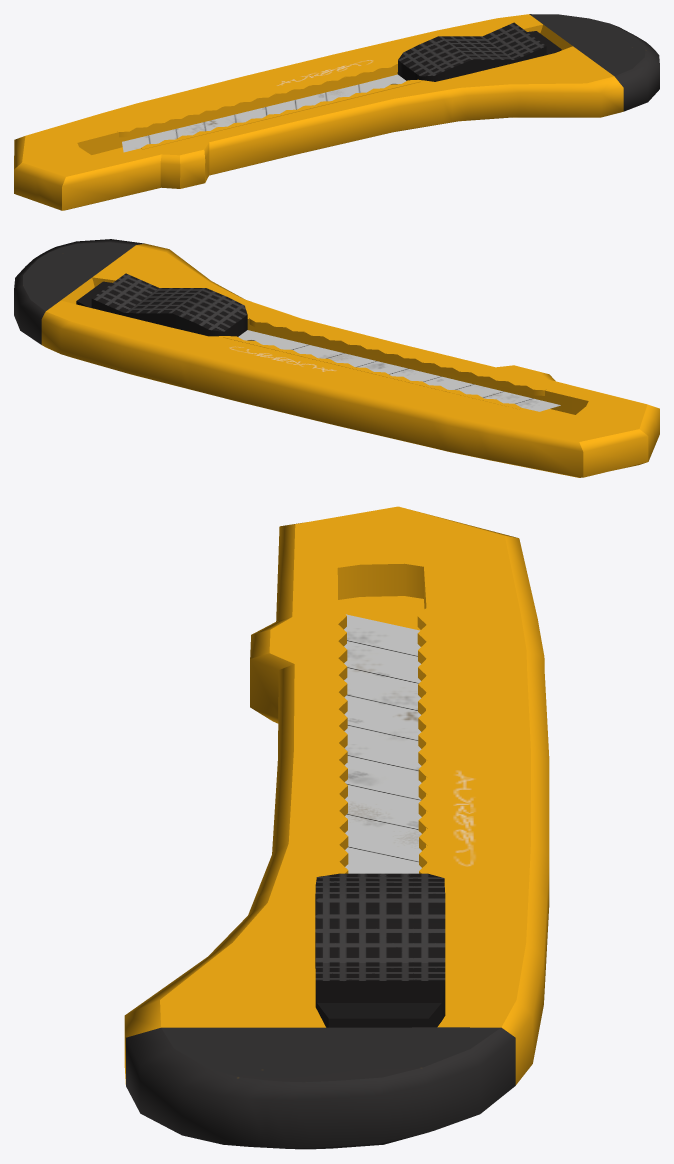
Rendered from Cutter.fbx.
3 renders of one model, top to bottom at view 1: azimuth 30°, elevation 25°; view 2: azimuth 150°, elevation 25°; view 3: azimuth 270°, elevation 25°, orthographic. The views are drawn at different scales.
Visible parts, largest first — view 1: pipka1; view 2: pipka1; view 3: pipka1.
Boxes of the visible parts, x1,y1,x2,y2 form: pipka1: [14, 14, 659, 210]; pipka1: [14, 239, 659, 477]; pipka1: [124, 506, 549, 1149].
Size of the model in its own units: 10.1 by 0.896 by 3.07.
